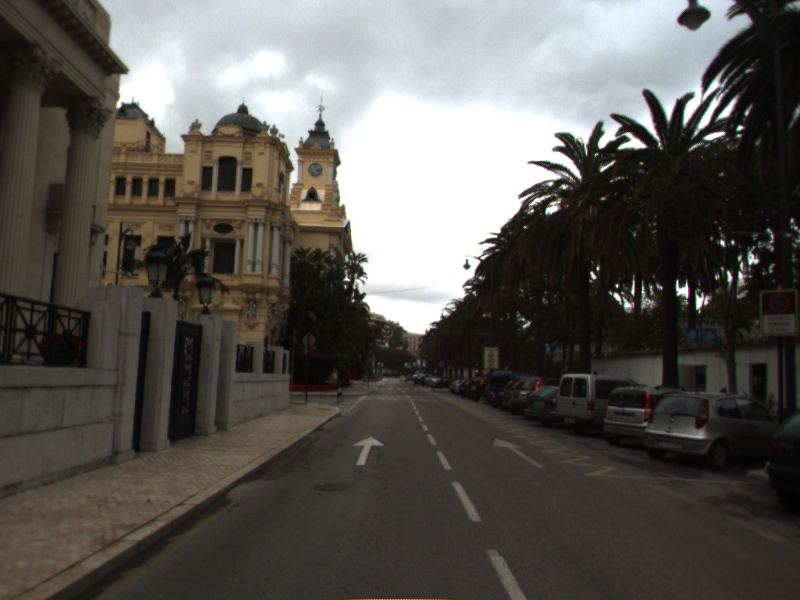STRAIGHT: (492, 435, 547, 470), (349, 435, 387, 468)
